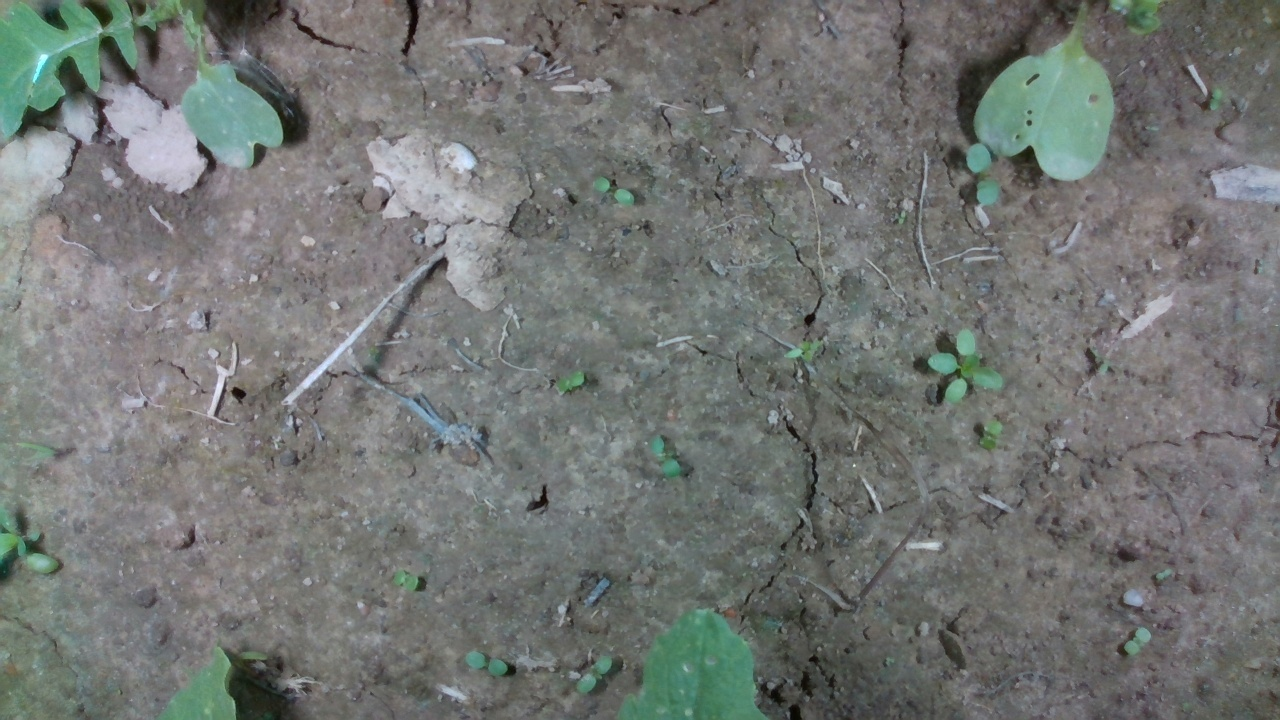weed: (576, 654, 614, 696), (590, 176, 636, 208), (464, 650, 509, 676), (1121, 625, 1151, 657), (978, 418, 1003, 452), (1207, 86, 1223, 112), (1154, 566, 1173, 583)
